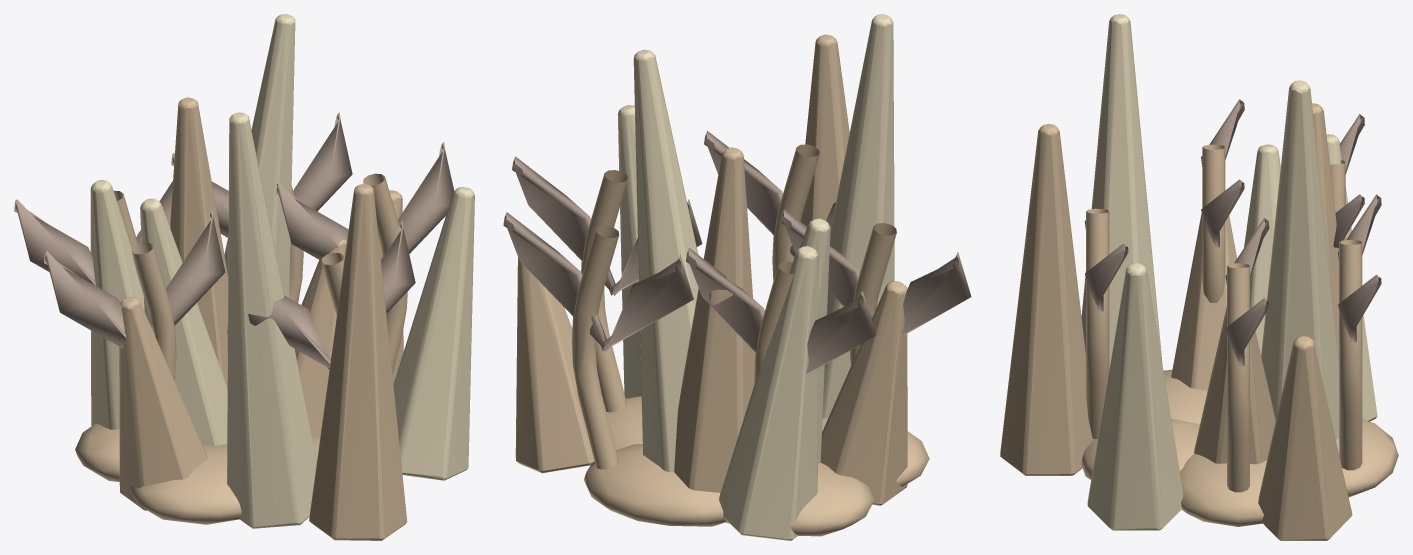
The model's file is bio_crystal_fan_07_far.glb.
3 renders of one model, left to right at view 1: azimuth 30°, elevation 25°; view 2: azimuth 150°, elevation 25°; view 3: azimuth 270°, elevation 25°, orthographic. The views are drawn at different scales.
Visible parts, largest first — view 1: Reflecting mineral prism.007, Reflecting mineral prism.002, Reflecting mineral prism.005, Reflecting mineral prism.004, Reflecting mineral prism.003, Reflecting mineral prism.009, Reflecting mineral prism.006, Mineral substrate, Reflecting mineral prism.001, Secondary fan lobe.008, Secondary fan lobe, Secondary fan lobe.004 (+7 smaller); view 2: Reflecting mineral prism.001, Reflecting mineral prism.006, Reflecting mineral prism.003, Mineral substrate, Reflecting mineral prism.004, Reflecting mineral prism.007, Reflecting mineral prism.008, Secondary fan lobe.006, Secondary fan lobe.002, Branching support.003, Reflecting mineral prism.002, Secondary fan lobe.008 (+8 smaller); view 3: Reflecting mineral prism.002, Reflecting mineral prism.005, Reflecting mineral prism.003, Reflecting mineral prism.008, Reflecting mineral prism.007, Mineral substrate, Reflecting mineral prism, Reflecting mineral prism.004, Branching support.003, Branching support, Branching support.002, Reflecting mineral prism.009 (+9 smaller).
Boxes of the visible parts, x1,y1,x2,y2 form: Reflecting mineral prism.007: (227,112,316,528); Reflecting mineral prism.002: (309,183,407,540); Reflecting mineral prism.005: (393,187,474,480); Reflecting mineral prism.004: (119,296,207,510); Reflecting mineral prism.003: (224,14,295,368); Reflecting mineral prism.009: (140,198,227,445); Reflecting mineral prism.006: (170,97,228,386); Mineral substrate: (75,424,402,524); Reflecting mineral prism.001: (90,180,144,429); Secondary fan lobe.008: (44,210,225,348); Secondary fan lobe: (275,142,454,260); Secondary fan lobe.004: (248,221,415,369); Reflecting mineral prism.001: (719,246,818,540); Reflecting mineral prism.006: (674,147,755,492); Reflecting mineral prism.003: (633,49,698,472); Mineral substrate: (584,396,929,536); Reflecting mineral prism.004: (820,281,907,505); Reflecting mineral prism.007: (822,14,894,418); Reflecting mineral prism.008: (515,257,611,473); Secondary fan lobe.006: (503,212,693,351); Secondary fan lobe.002: (686,248,876,373); Branching support.003: (571,225,619,469); Reflecting mineral prism.002: (801,34,849,226); Secondary fan lobe.008: (781,209,971,334); Reflecting mineral prism.002: (1000,124,1094,475); Reflecting mineral prism.005: (1087,263,1183,530); Reflecting mineral prism.003: (1261,80,1339,439); Reflecting mineral prism.008: (1258,336,1352,540); Reflecting mineral prism.007: (1081,14,1162,369); Mineral substrate: (1081,369,1398,526); Reflecting mineral prism: (1194,306,1275,464); Reflecting mineral prism.004: (1171,212,1236,390); Branching support.003: (1339,240,1362,470); Branching support: (1227,263,1249,492); Branching support.002: (1086,208,1109,438); Reflecting mineral prism.009: (1244,144,1280,355).
Size of the model in its own units: 1.85 by 1.79 by 1.55.
